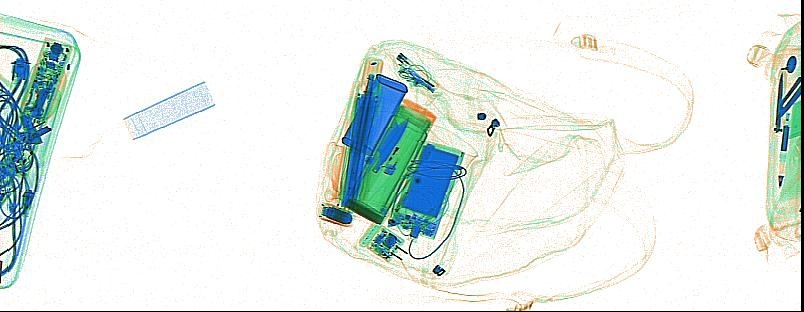knife: (358, 115, 410, 200), (771, 69, 787, 134)
zippooil: (340, 72, 407, 157)
